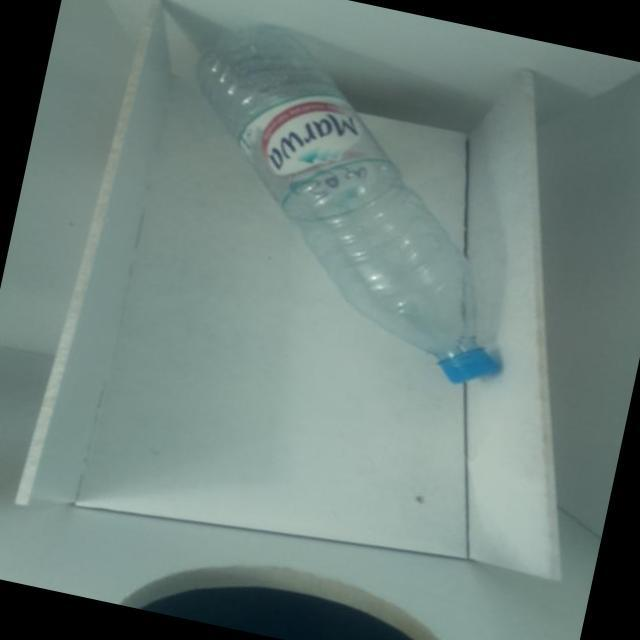good: (123, 0, 565, 399)
